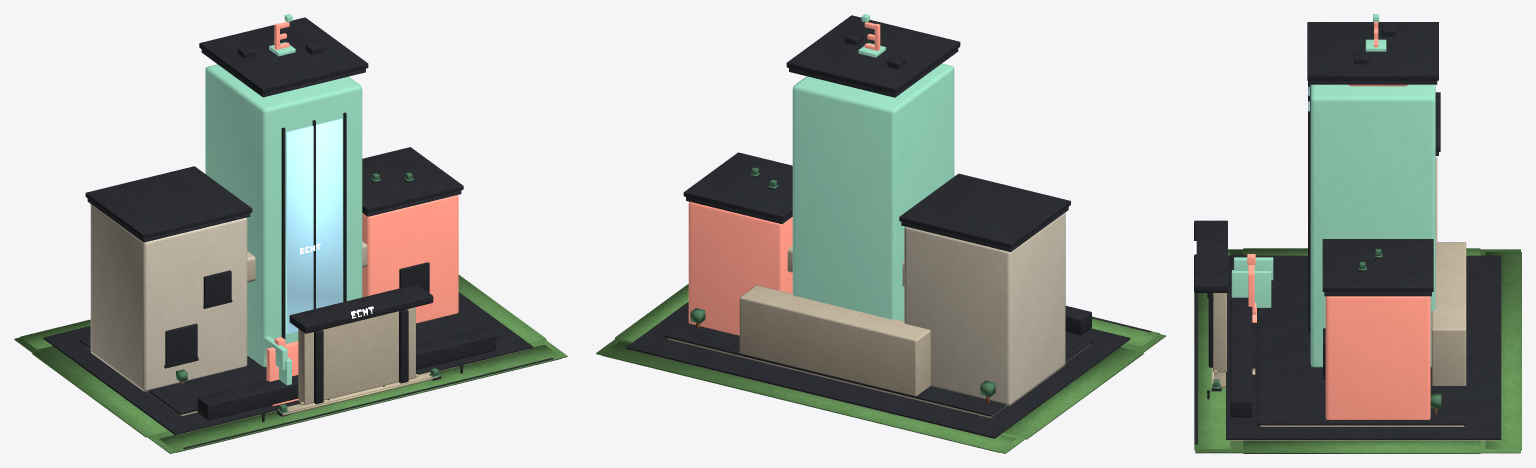
Rendered from pack.agentspace.building.echt.02.glb.
3 views of the same model, side by side, from view 1: azimuth 30°, elevation 25°; view 2: azimuth 150°, elevation 25°; view 3: azimuth 270°, elevation 25° (orthographic). The views are drawn at different scales.
Parts seen in each view (by area): view 1: mass.left, mass.tower, mass.tower.front.glass, mass.right, entrance.recess, roof.left.lip, roof.tower.lip, site.podium.lip, site.berm.s, pack.agentspace.building.echt.02.link.front, roof.right.lip, podium.lip (+18 smaller); view 2: mass.tower, mass.left, mass.rear, site.podium.lip, mass.right, roof.left.lip, roof.tower.lip, site.berm.n, roof.right.lip, podium.lip, site.berm.w, site.berm.e (+6 smaller); view 3: mass.tower, mass.right, site.podium.lip, podium.lip, roof.tower.lip, roof.right.lip, mass.rear, site.berm.n, site.berm.e, site.berm.s, pack.agentspace.building.echt.02.link.front, entrance.canopy (+12 smaller).
Boxes of the visible parts, x1,y1,x2,y2 form: mass.left: (90, 204, 247, 391); mass.tower: (205, 64, 362, 367); mass.tower.front.glass: (286, 118, 342, 333); mass.right: (362, 195, 458, 323); entrance.recess: (298, 307, 415, 404); roof.left.lip: (85, 166, 252, 238); roof.tower.lip: (199, 17, 368, 93); site.podium.lip: (43, 292, 532, 435); site.berm.s: (159, 344, 561, 452); pack.agentspace.building.echt.02.link.front: (197, 327, 495, 420); roof.right.lip: (362, 147, 463, 212); podium.lip: (79, 307, 498, 414); mass.tower: (792, 63, 954, 320); mass.left: (904, 213, 1065, 405); mass.rear: (739, 285, 930, 395); site.podium.lip: (626, 302, 1130, 438); mass.right: (688, 201, 792, 335); roof.left.lip: (899, 173, 1070, 248); roof.tower.lip: (786, 15, 960, 93); site.berm.n: (602, 341, 1016, 452); roof.right.lip: (683, 152, 792, 220); podium.lip: (663, 317, 1094, 416); site.berm.w: (1003, 347, 1143, 439); site.berm.e: (615, 284, 688, 342); mass.tower: (1310, 84, 1435, 367); mass.right: (1325, 296, 1430, 419); site.podium.lip: (1226, 255, 1501, 439); podium.lip: (1257, 261, 1467, 425); roof.tower.lip: (1307, 22, 1438, 80); roof.right.lip: (1322, 239, 1433, 291); mass.rear: (1431, 242, 1466, 385); site.berm.n: (1485, 252, 1521, 450); site.berm.e: (1243, 440, 1480, 453); site.berm.s: (1194, 252, 1230, 450); pack.agentspace.building.echt.02.link.front: (1230, 254, 1252, 417); entrance.canopy: (1194, 220, 1227, 292).
Bounding box in the file's own units: 48.44 × 37.6 × 32.88.
13 materials, 11 textured.
